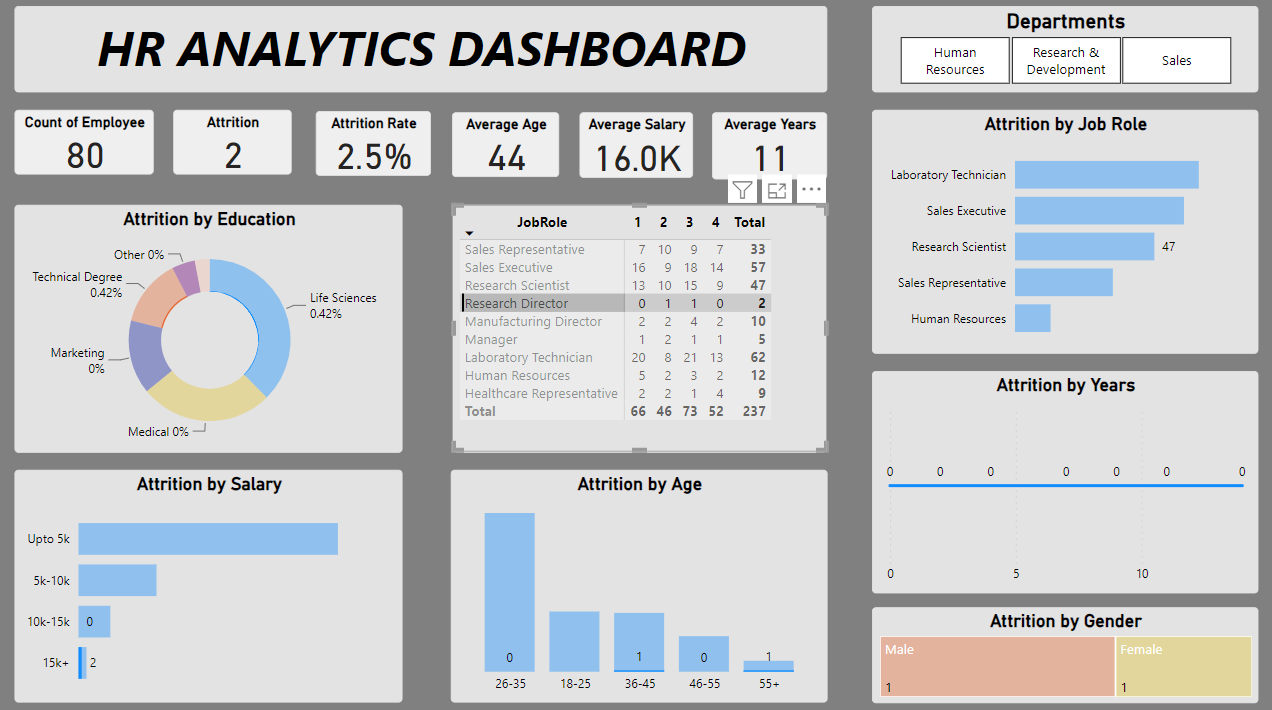

The page's visual inventory and layout, read from the dashboard file:
{"tool":"powerbi","page":{"name":"Page 1","canvas":[1280,720],"ordinal":0},"visuals":[{"type":"card","title":"Count of Employee","fields":{"Values":["CountNonNull(HR_Analytics.EmpID)"]},"box":[17,113.8,139.4,64.9],"z":0},{"type":"card","title":"Attrition","fields":{"Values":["Sum(HR_Analytics.AttritionCount)"]},"box":[176.6,113.8,118.1,64.9],"z":1000},{"type":"card","title":"Attrition Rate","fields":{"Values":["HR_Analytics.AttritionRate"]},"box":[319.1,114.9,114.9,64.9],"z":2000},{"type":"card","title":"Average Age ","fields":{"Values":["Avg(HR_Analytics.Age)"]},"box":[455.3,116,107.4,64.9],"z":3000},{"type":"card","title":"Average Salary","fields":{"Values":["Avg(HR_Analytics.MonthlyIncome)"]},"box":[583,116,113.8,66],"z":4000},{"type":"card","title":"Average Years ","fields":{"Values":["Avg(HR_Analytics.YearsAtCompany)"]},"box":[714.9,116,114.9,67],"z":5000},{"type":"donutChart","title":"Attrition by Education","fields":{"Category":["HR_Analytics.EducationField"],"Y":["Sum(HR_Analytics.AttritionCount)"]},"box":[17,208.5,388.3,247.9],"z":6000},{"type":"columnChart","title":"Attrition by Age","fields":{"Category":["HR_Analytics.AgeGroup"],"Y":["Sum(HR_Analytics.AttritionCount)"]},"box":[453.2,473.4,376.6,233],"z":7000},{"type":"pivotTable","fields":{"Rows":["HR_Analytics.JobRole"],"Columns":["HR_Analytics.JobSatisfaction"],"Values":["Sum(HR_Analytics.AttritionCount)"]},"box":[455.3,208.5,374.5,247.9],"z":8000},{"type":"barChart","title":"Attrition by Salary","fields":{"Category":["HR_Analytics.SalarySlab"],"Y":["Sum(HR_Analytics.AttritionCount)"]},"box":[17,473.4,388.3,233],"z":9000},{"type":"barChart","title":"Attrition by Job Role","fields":{"Category":["HR_Analytics.JobRole"],"Y":["Sum(HR_Analytics.AttritionCount)"]},"box":[875.5,113.8,386.2,243.6],"z":10000},{"type":"areaChart","title":"Attrition by Years","fields":{"Category":["HR_Analytics.YearsAtCompany"],"Y":["Sum(HR_Analytics.AttritionCount)"]},"box":[875,375,386.2,222.5],"z":11000},{"type":"treemap","title":"Attrition by Gender","fields":{"Group":["HR_Analytics.Gender"],"Values":["Sum(HR_Analytics.AttritionCount)"]},"box":[875.5,610.6,386.2,95.7],"z":12000},{"type":"slicer","title":"Departments","fields":{"Values":["HR_Analytics.Department"]},"box":[875.5,9.6,386.2,86.2],"z":13000},{"type":"textbox","box":[17,9.6,812.8,86.2],"z":14000}]}

Visuals, with their boxes in screenshot pixels (x1, y1, x2, y2), scaled from the page's 1280x720 canvas onto the 1272x710 screenshot:
"Count of Employee" card: x1=17 y1=112 x2=155 y2=176
"Attrition" card: x1=175 y1=112 x2=293 y2=176
"Attrition Rate" card: x1=317 y1=113 x2=431 y2=177
"Average Age " card: x1=452 y1=114 x2=559 y2=178
"Average Salary" card: x1=579 y1=114 x2=692 y2=179
"Average Years " card: x1=710 y1=114 x2=825 y2=180
"Attrition by Education" donutChart: x1=17 y1=206 x2=403 y2=450
"Attrition by Age" columnChart: x1=450 y1=467 x2=825 y2=697
pivotTable - HR_Analytics.JobRole x HR_Analytics.JobSatisfaction: x1=452 y1=206 x2=825 y2=450
"Attrition by Salary" barChart: x1=17 y1=467 x2=403 y2=697
"Attrition by Job Role" barChart: x1=870 y1=112 x2=1254 y2=352
"Attrition by Years" areaChart: x1=870 y1=370 x2=1253 y2=589
"Attrition by Gender" treemap: x1=870 y1=602 x2=1254 y2=696
"Departments" slicer: x1=870 y1=9 x2=1254 y2=94
textbox: x1=17 y1=9 x2=825 y2=94
